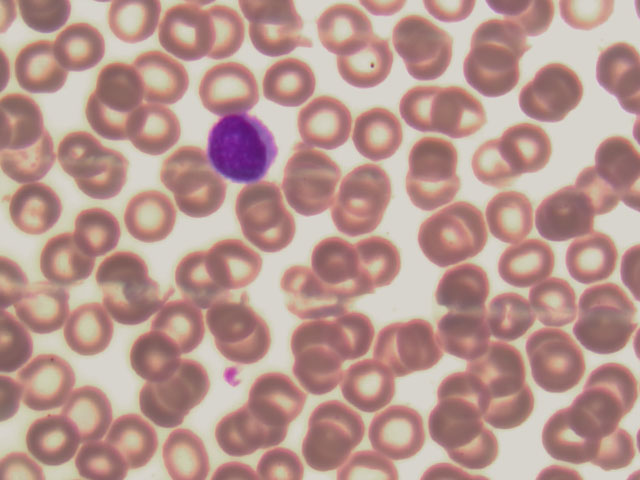Platelets: (221, 366, 247, 392)
RBC: (528, 60, 585, 119), (466, 39, 523, 98), (437, 85, 494, 144), (398, 76, 455, 135), (352, 103, 409, 162), (297, 92, 354, 151), (257, 51, 314, 110), (199, 54, 256, 113), (130, 50, 187, 109), (92, 49, 149, 108), (78, 85, 135, 144), (137, 101, 194, 160), (154, 136, 211, 195), (171, 163, 228, 222), (120, 194, 177, 253), (81, 149, 138, 208), (54, 122, 111, 181), (1, 126, 58, 185), (2, 90, 59, 149), (11, 35, 68, 94), (57, 16, 114, 75), (73, 196, 130, 255), (4, 179, 61, 238), (36, 226, 93, 285), (13, 275, 70, 334), (59, 301, 116, 360), (12, 355, 69, 414), (21, 412, 78, 471), (63, 381, 120, 440), (103, 411, 157, 466), (153, 425, 207, 480), (135, 376, 189, 431), (158, 356, 212, 411), (129, 330, 183, 385), (154, 302, 208, 357), (97, 281, 151, 336), (100, 242, 154, 297), (163, 240, 217, 295), (208, 235, 262, 290), (204, 295, 258, 350), (221, 315, 275, 370), (248, 373, 302, 428), (241, 394, 295, 449), (218, 407, 272, 462), (300, 425, 354, 480), (317, 393, 371, 448), (347, 357, 401, 412), (296, 350, 350, 405), (294, 318, 348, 373), (330, 305, 384, 360), (288, 268, 342, 323), (303, 237, 357, 292), (355, 234, 409, 289), (330, 194, 384, 249), (342, 163, 396, 218), (285, 175, 339, 230), (285, 139, 339, 194), (236, 173, 290, 228), (244, 207, 298, 262), (408, 127, 462, 182), (403, 167, 457, 222), (408, 216, 462, 271), (438, 200, 492, 255), (437, 253, 491, 308), (436, 307, 490, 362), (405, 317, 459, 372), (371, 323, 425, 378), (443, 361, 497, 416), (428, 386, 482, 441), (373, 403, 427, 458), (445, 417, 499, 472), (485, 378, 539, 433), (473, 338, 527, 393), (487, 285, 541, 340), (528, 278, 582, 333), (506, 243, 560, 298), (486, 191, 540, 246), (536, 188, 590, 243), (569, 163, 623, 218), (586, 133, 640, 188), (501, 120, 555, 175), (469, 142, 523, 197), (392, 12, 446, 67), (338, 38, 392, 93), (317, 2, 371, 57), (248, 3, 302, 58), (198, 6, 252, 61), (164, 5, 218, 60), (576, 307, 630, 354), (564, 233, 618, 280), (586, 360, 640, 407), (529, 346, 583, 393), (570, 392, 624, 439), (546, 411, 600, 458), (70, 434, 121, 480), (110, 1, 159, 42)
WBC: (204, 112, 278, 180)
